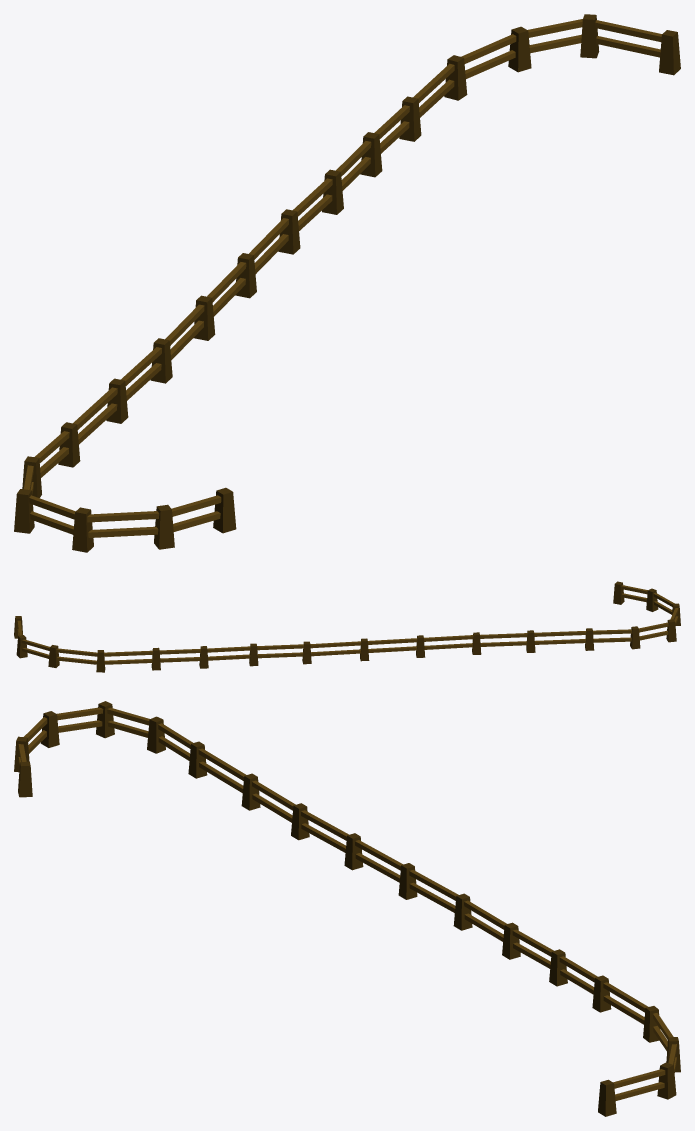
File: Fence.fbx
The picture shows the model from 3 angles, top to bottom: view 1: azimuth 30°, elevation 25°; view 2: azimuth 150°, elevation 25°; view 3: azimuth 270°, elevation 25°; orthographic projection. The views are drawn at different scales.
Parts seen in each view (by area): view 1: fenceRock19; view 2: fenceRock19; view 3: fenceRock19.
Part boxes in pixels (bbox=[...]): fenceRock19: bbox=[14, 14, 680, 552]; fenceRock19: bbox=[14, 581, 680, 672]; fenceRock19: bbox=[14, 701, 680, 1116].
Size of the model in its own units: 26.46 by 0.9709 by 19.29.
